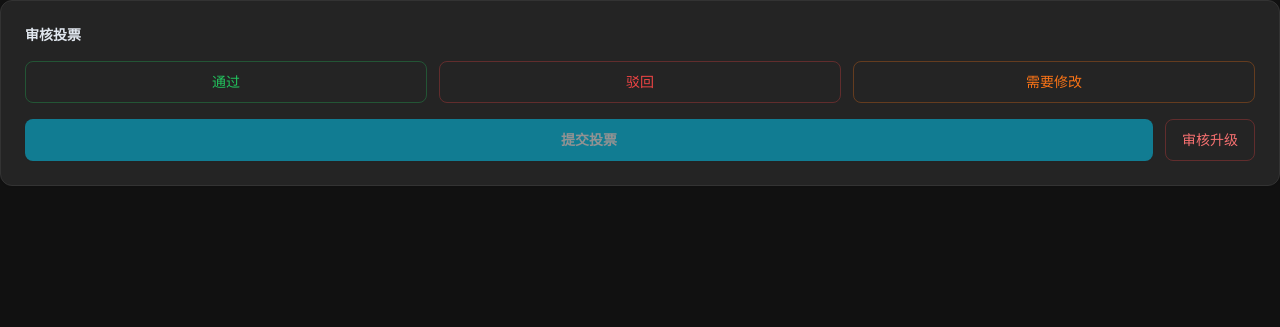
Test: VotePanel › 驳回填完理由后提交按钮应启用
Click the button "驳回" at (640, 82), box [439,61,841,103]
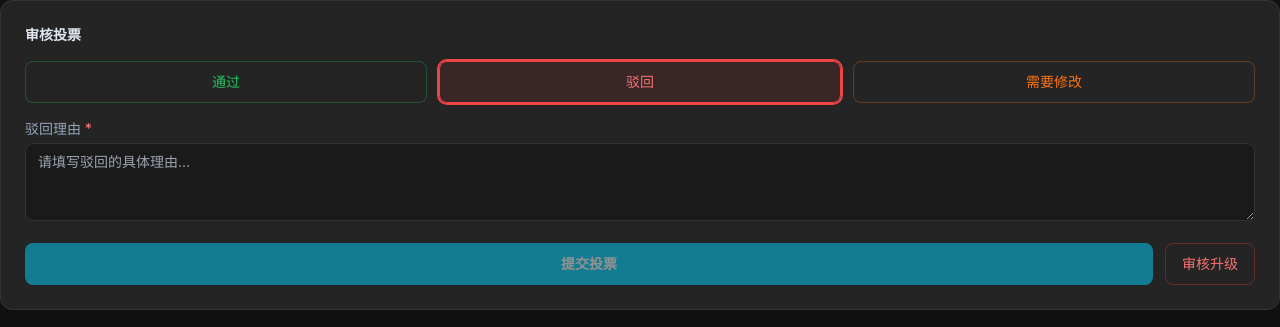
Type "内容不完整，缺少关键数据" into the text box labelled "驳回理由 *" at (640, 182), box [25,143,1255,221]
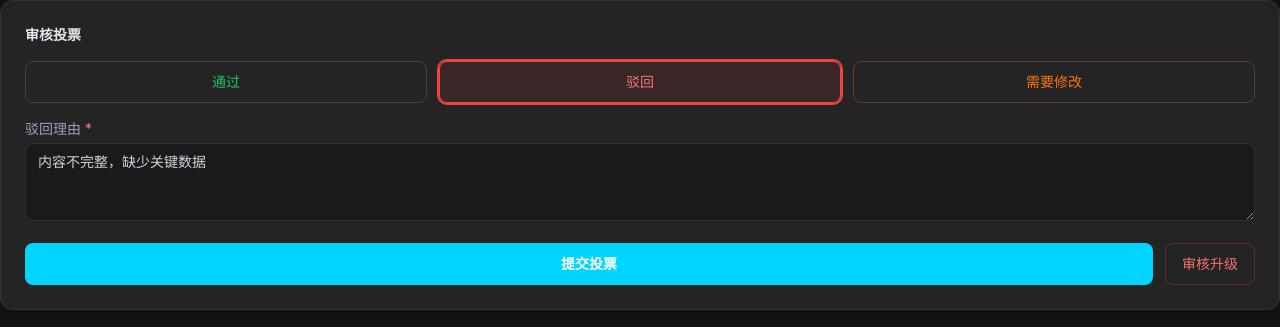
Expected: the button "提交投票" is enabled, [25,243,1153,285]
